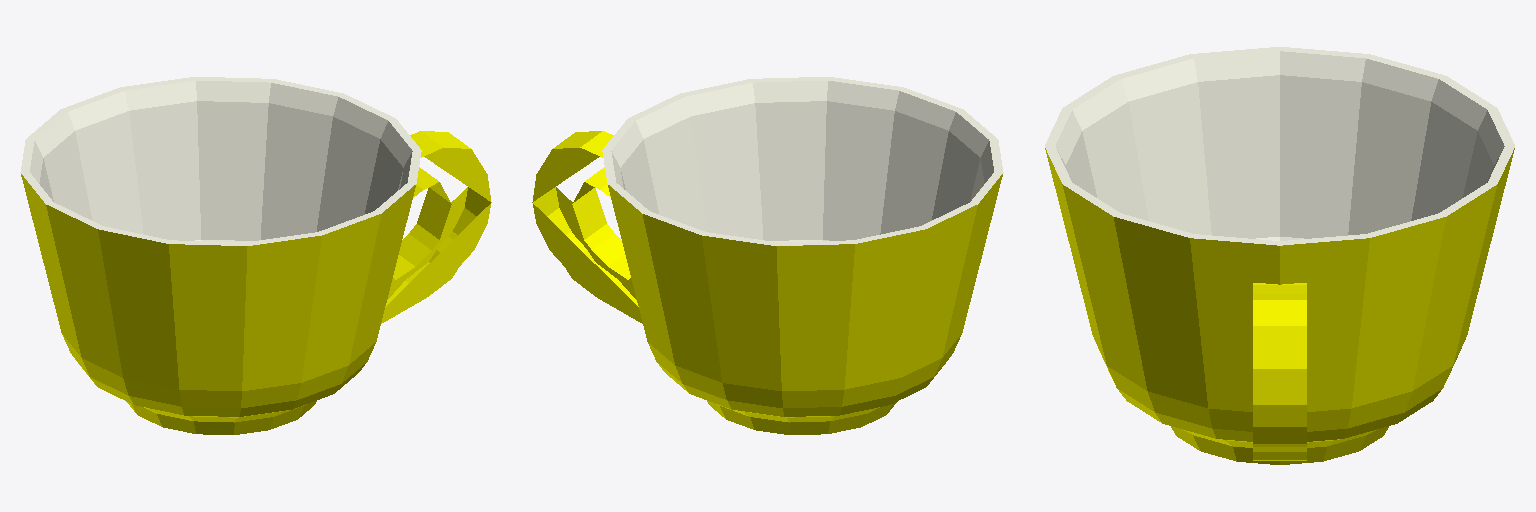
robot.urdf — coffee-cup-cup:
<?xml version="1.0"?>
<robot name="coffee-cup-cup"
       xmlns:xi="http://www.w3.org/2001/XInclude"
       xmlns:gazebo="http://playerstage.sourceforge.net/gazebo/xmlschema/#gz"
       xmlns:model="http://playerstage.sourceforge.net/gazebo/xmlschema/#model"
       xmlns:sensor="http://playerstage.sourceforge.net/gazebo/xmlschema/#sensor"
       xmlns:body="http://playerstage.sourceforge.net/gazebo/xmlschema/#body"
       xmlns:geom="http://playerstage.sourceforge.net/gazebo/xmlschema/#geom"
       xmlns:joint="http://playerstage.sourceforge.net/gazebo/xmlschema/#joint"
       xmlns:interface="http://playerstage.sourceforge.net/gazebo/xmlschema/#interface"
       xmlns:rendering="http://playerstage.sourceforge.net/gazebo/xmlschema/#rendering"
       xmlns:renderable="http://playerstage.sourceforge.net/gazebo/xmlschema/#renderable"
       xmlns:controller="http://playerstage.sourceforge.net/gazebo/xmlschema/#controller"
       xmlns:physics="http://playerstage.sourceforge.net/gazebo/xmlschema/#physics">
  <gazebo>
    <static>false</static>
  </gazebo>
  <link name="nil_link">
    <visual>
      <origin xyz="0 0 0" rpy="0 -0 0"/>
      <geometry>
        <mesh filename="model://coffee-cup-cup/meshes/nil_link_mesh.dae" scale="1 1 1" />
      </geometry>
    </visual>
    <collision>
      <origin xyz="0 0 0" rpy="0 -0 0"/>
      <geometry>
        <mesh filename="model://coffee-cup-cup/meshes/nil_link_mesh.dae" scale="1 1 1" />
      </geometry>
    </collision>
    <inertial>
      <mass value="0.001" />
      <origin xyz="0 0 0" rpy="0 -0 0"/>
      <inertia ixx="1e-09" ixy="0" ixz="0" iyy="1e-09" iyz="0" izz="1e-09"/>
    </inertial>
  </link>
  <gazebo reference="nil_link">
    <mu1>0.9</mu1>
    <mu2>0.9</mu2>
  </gazebo>
</robot>

--- What the picture shows (computed from the rendered views, not written in the file) ---
3 views of the same robot in one strip: view 1: azimuth 30°, elevation 25°; view 2: azimuth 150°, elevation 25°; view 3: azimuth 270°, elevation 25° (orthographic).
Model coffee-cup-cup with 1 links and 0 joints (none), rooted at nil_link, posed all joints at 0.
Visible links, largest first — view 1: nil_link; view 2: nil_link; view 3: nil_link.
Link boxes in pixels (x1=…): nil_link: x1=20, y1=77, x2=491, y2=434; nil_link: x1=532, y1=77, x2=1003, y2=434; nil_link: x1=1045, y1=47, x2=1514, y2=464.
Bounding box of the posed robot: 0.109 × 0.088 × 0.056 m (x, y, z).
1 mesh visuals loaded from 1 distinct referenced files (1 Collada DAE).
